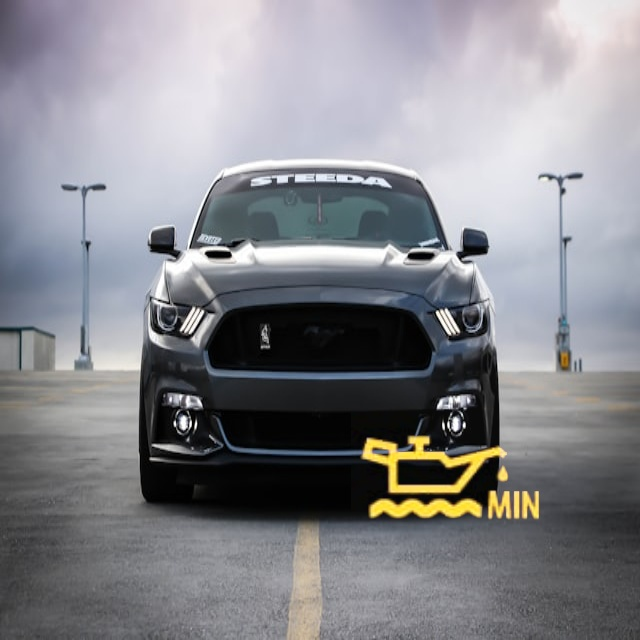symbol: (351, 381, 547, 577)
